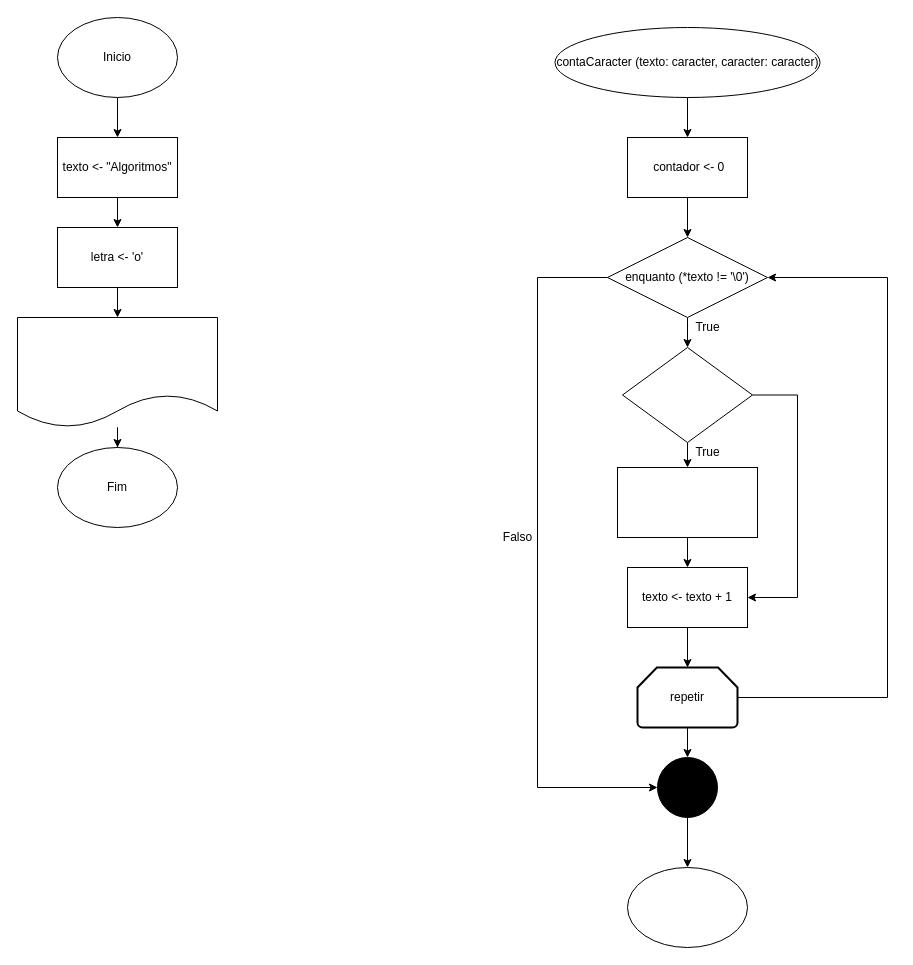
Some shapes in this 913 by 965 pixel diagram are drawn without their labels. The shapes that lost their labels are listed below. From the top down, each one's box as (x1, y1, x2, y2) in pixels, then its label:
(16, 316, 218, 428): escrever(contaCaracter(texto, letra))
(622, 346, 752, 442): se(*texto = caracter)
(616, 466, 758, 538): contador <- contador + 1
(626, 866, 748, 948): retorna(contador)
